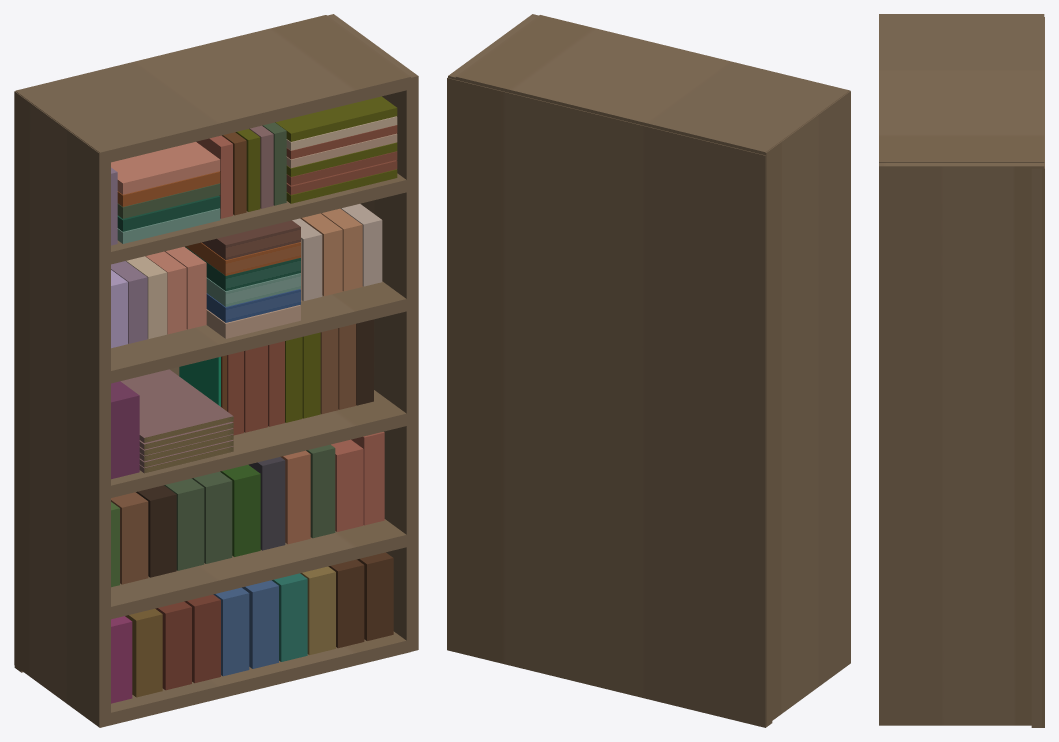
Rendered from Librero.obj.
The picture shows the model from 3 angles, left to right: view 1: azimuth 30°, elevation 25°; view 2: azimuth 150°, elevation 25°; view 3: azimuth 270°, elevation 25°; orthographic projection. The views are drawn at different scales.
Visible parts, largest first — view 1: pasted__pCube1 group, pasted__pasted__pasted__pasted__pasted__pasted__pasted__pasted__, pasted__pasted__pasted__pasted__pasted__pasted__pCube1 pasted__p, pasted__pasted__pCube1 pasted__group group2, pasted__pasted__pasted__pasted__pasted__pasted__pasted__pCube1 p, pasted__pasted__pasted__pCube1 pasted__pasted__group pasted__gro, pasted__pasted__pasted__pasted__pasted__pCube1 pasted__pasted__p, pasted__pasted__pCube1 pasted__group group1, pasted__pasted__pasted__pasted__pCube1 pasted__pasted__pasted__g, group75 pasted__pasted__pasted__pasted__pasted__pasted__pasted__, group77 pasted__pasted__pasted__pasted__pasted__pasted__pasted__, pasted__pasted__pasted__pasted__pasted__pasted__pasted__pCube2 p (+4 smaller); view 2: pCube1, pasted__pCube1 group, pasted__pasted__pCube1 pasted__group group2; view 3: pasted__pasted__pCube1 pasted__group group1, pasted__pasted__pCube1 pasted__group group2, pCube1.
Part boxes in pixels (box(x1,y1,x2,y2)): pasted__pCube1 group: box(14, 91, 110, 727); pasted__pasted__pasted__pasted__pasted__pasted__pasted__pasted__: box(111, 96, 397, 544); pasted__pasted__pasted__pasted__pasted__pasted__pCube1 pasted__p: box(111, 246, 393, 703); pasted__pasted__pCube1 pasted__group group2: box(15, 15, 410, 164); pasted__pasted__pasted__pasted__pasted__pasted__pasted__pCube1 p: box(111, 135, 300, 587); pasted__pasted__pasted__pCube1 pasted__pasted__group pasted__gro: box(99, 173, 410, 727); pasted__pasted__pasted__pasted__pasted__pCube1 pasted__pasted__p: box(100, 208, 406, 668); pasted__pasted__pCube1 pasted__group group1: box(327, 14, 418, 652); pasted__pasted__pasted__pasted__pCube1 pasted__pasted__pasted__g: box(100, 204, 406, 619); group75 pasted__pasted__pasted__pasted__pasted__pasted__pasted__: box(286, 133, 397, 203); group77 pasted__pasted__pasted__pasted__pasted__pasted__pasted__: box(201, 220, 300, 259); pasted__pasted__pasted__pasted__pasted__pasted__pasted__pCube2 p: box(185, 246, 300, 290); pCube1: box(447, 77, 772, 727); pasted__pCube1 group: box(765, 91, 850, 724); pasted__pasted__pCube1 pasted__group group2: box(455, 15, 850, 155); pasted__pasted__pCube1 pasted__group group1: box(879, 163, 1044, 725); pasted__pasted__pCube1 pasted__group group2: box(879, 14, 1044, 162); pCube1: box(1031, 17, 1044, 727).
Size of the model in its own units: 1.57 by 2.7 by 0.7218.
40 materials, 40 textured.
